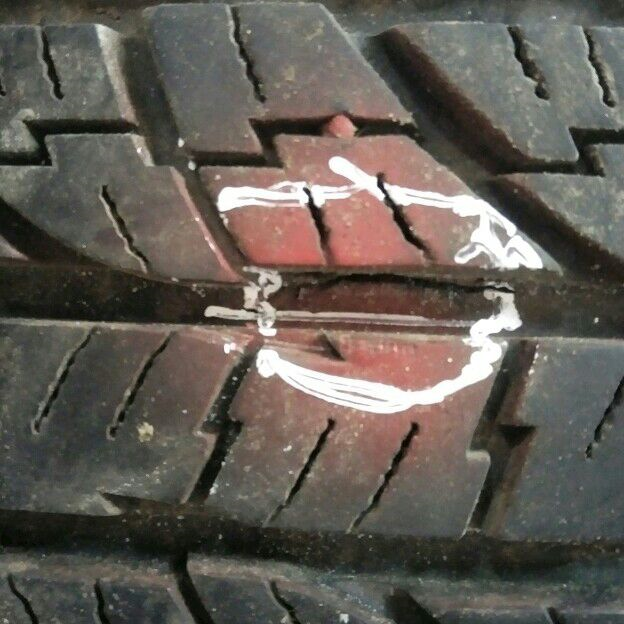tr: (287, 263, 510, 299)
